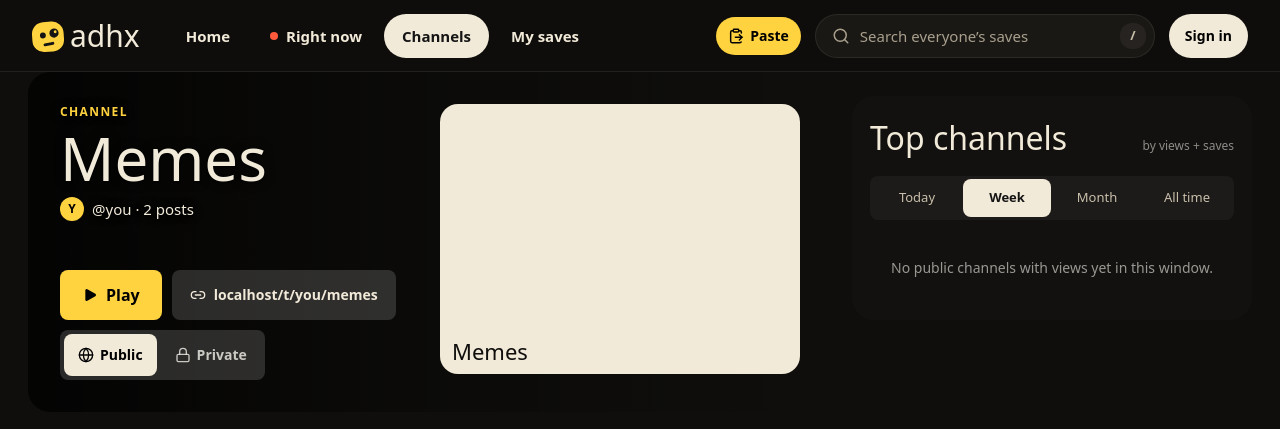
Scenario: ChannelPage for its owner › switches a public channel to private, and hides its link
What coordinates should you click on to do the following:
click the button "Private"
I would click on:
 (211, 355)
Its box is [161,334,261,376].
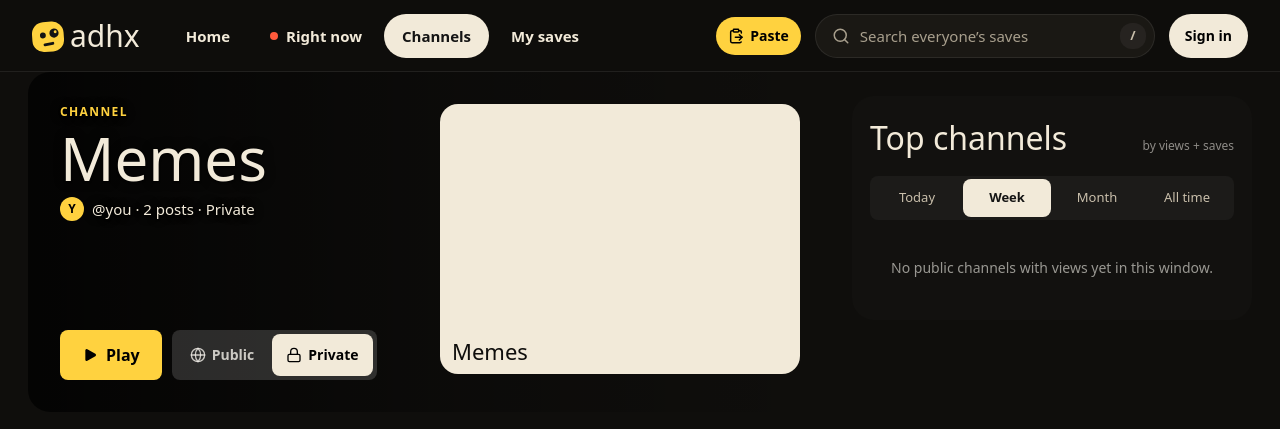
Expected: the text "@you · 2 posts · Private" is shown, [92,198,255,220]
